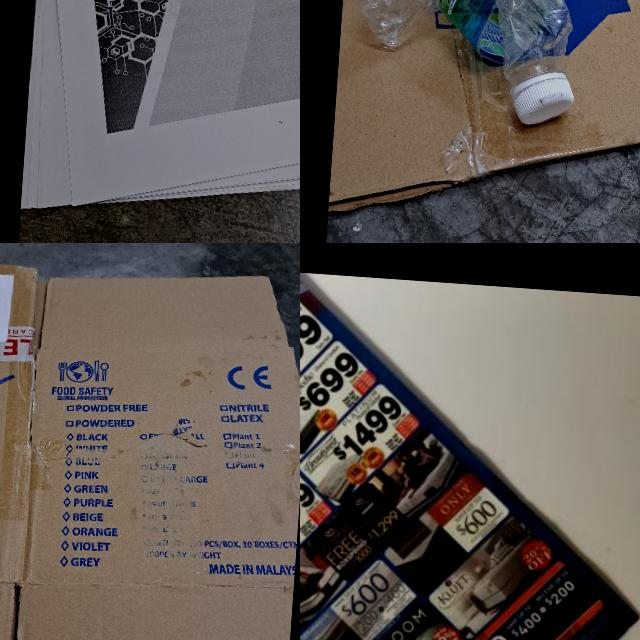garrafa plástica: (350, 0, 578, 90)
papel: (300, 253, 640, 640), (20, 0, 300, 243)
papelão: (0, 246, 300, 640), (327, 0, 640, 243)
tampa plástica: (510, 76, 575, 129)
